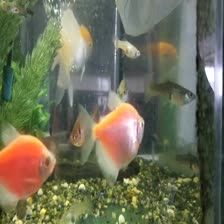Cuezo: (44, 8, 101, 105)
Guppy: (140, 72, 201, 106), (109, 34, 143, 61)
Plano: (73, 92, 153, 178), (0, 124, 60, 223)
